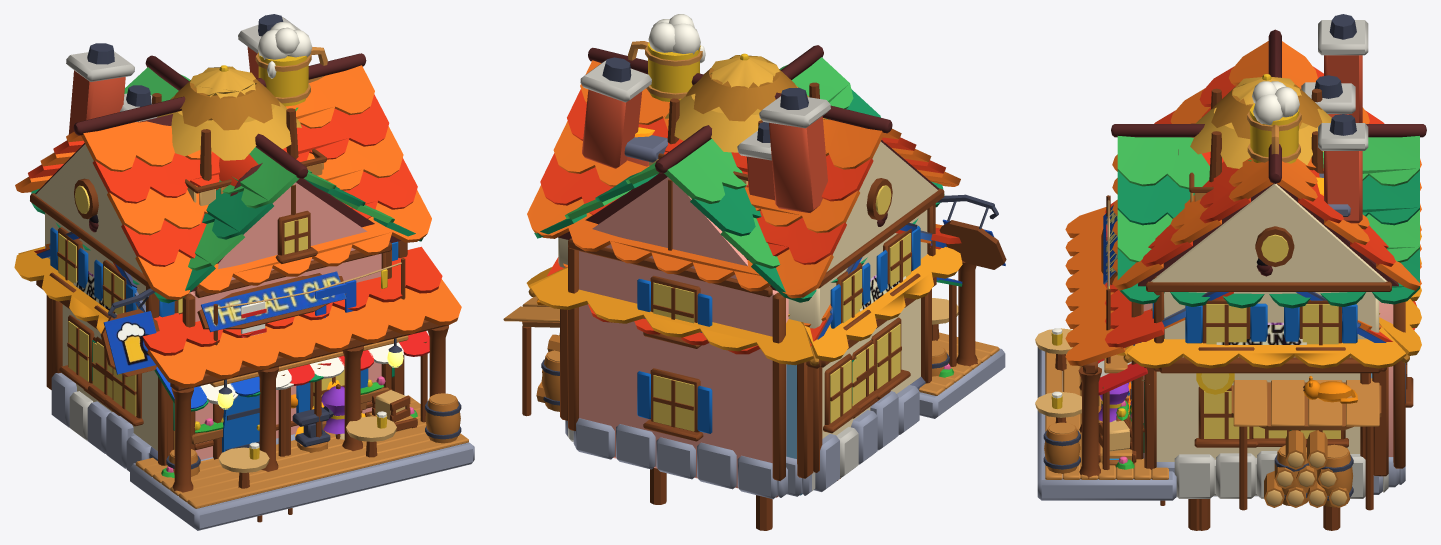
Rendered from town.glb.
3 renders of one model, left to right at view 1: azimuth 30°, elevation 25°; view 2: azimuth 150°, elevation 25°; view 3: azimuth 270°, elevation 25°, orthographic. The views are drawn at different scales.
Visible parts, largest first — view 1: TownTavern, TownHouse_B, Watchtower, ShopGeneral, TownHouse_C, ShopSmith, TownHouse_A, ShopTailor; view 2: TownTavern, TownHouse_B, TownHouse_C, Watchtower, ShopGeneral, TownHouse_A, ShopSmith, DockEnd, ShopTailor; view 3: TownTavern, TownHouse_B, TownHouse_C, ShopGeneral, Watchtower, TownHouse_A, ShopSmith, ShopTailor, DockEnd.
Part boxes in pixels (bbox=[...]): TownTavern: bbox=[15, 14, 474, 530]; TownHouse_B: bbox=[31, 55, 423, 461]; Watchtower: bbox=[152, 65, 326, 205]; ShopGeneral: bbox=[36, 107, 429, 476]; TownHouse_C: bbox=[14, 246, 366, 415]; ShopSmith: bbox=[37, 215, 417, 460]; TownHouse_A: bbox=[34, 223, 417, 477]; ShopTailor: bbox=[55, 220, 344, 449]; TownTavern: bbox=[527, 14, 1006, 491]; TownHouse_B: bbox=[534, 45, 944, 499]; TownHouse_C: bbox=[503, 247, 962, 496]; Watchtower: bbox=[649, 53, 825, 187]; ShopGeneral: bbox=[818, 221, 949, 470]; TownHouse_A: bbox=[547, 219, 953, 491]; ShopSmith: bbox=[624, 127, 962, 472]; DockEnd: bbox=[650, 468, 840, 530]; ShopTailor: bbox=[859, 213, 962, 366]; TownTavern: bbox=[1035, 14, 1421, 507]; TownHouse_B: bbox=[1104, 75, 1426, 487]; TownHouse_C: bbox=[1117, 232, 1421, 510]; ShopGeneral: bbox=[1098, 160, 1385, 495]; Watchtower: bbox=[1189, 74, 1331, 202]; TownHouse_A: bbox=[1115, 266, 1416, 494]; ShopSmith: bbox=[1098, 173, 1386, 496]; ShopTailor: bbox=[1098, 265, 1362, 472]; DockEnd: bbox=[1160, 499, 1340, 530].
Bounding box in the file's own units: 8.47 × 9.93 × 7.83.
4 materials, 1 textured.
